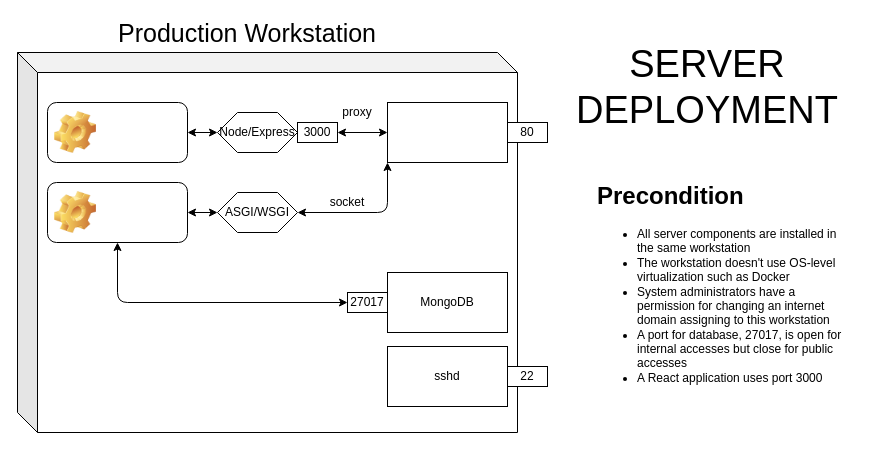
Some shapes in this 875 by 450 pixel diagram are drawn without their labels. Here are the shapes that lost their labels. From the top down, the box of each, then its label:
(46, 102, 188, 162): React (Frontend)
(386, 102, 508, 162): NginX
(46, 182, 188, 242): Django (Backend)
